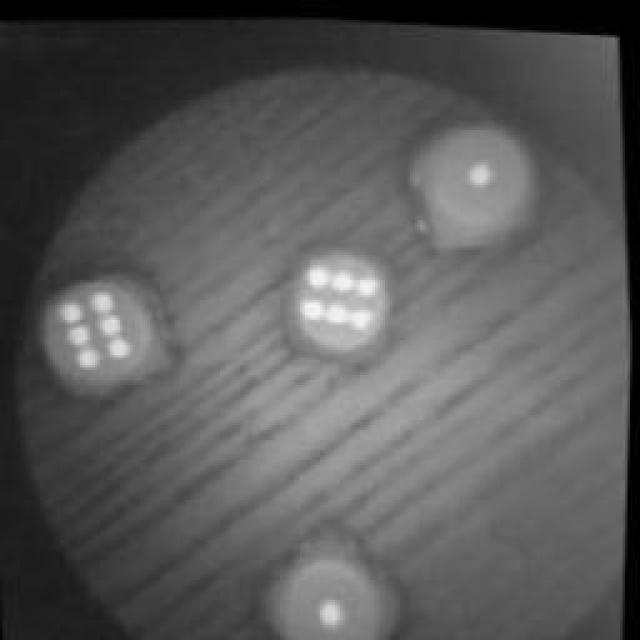dice_1: (400, 101, 558, 261), (254, 515, 411, 640)
dice_6: (35, 255, 190, 400), (276, 224, 414, 371)
